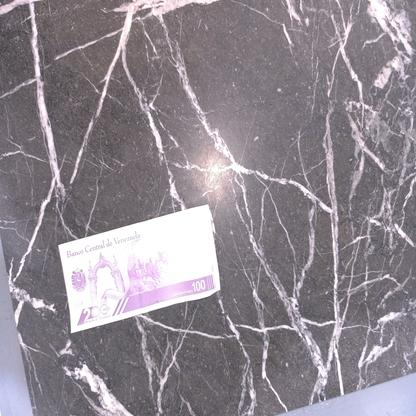one_hundred-back-vef: (57, 203, 222, 334)
